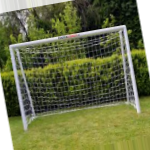goals: (5, 21, 144, 130)
